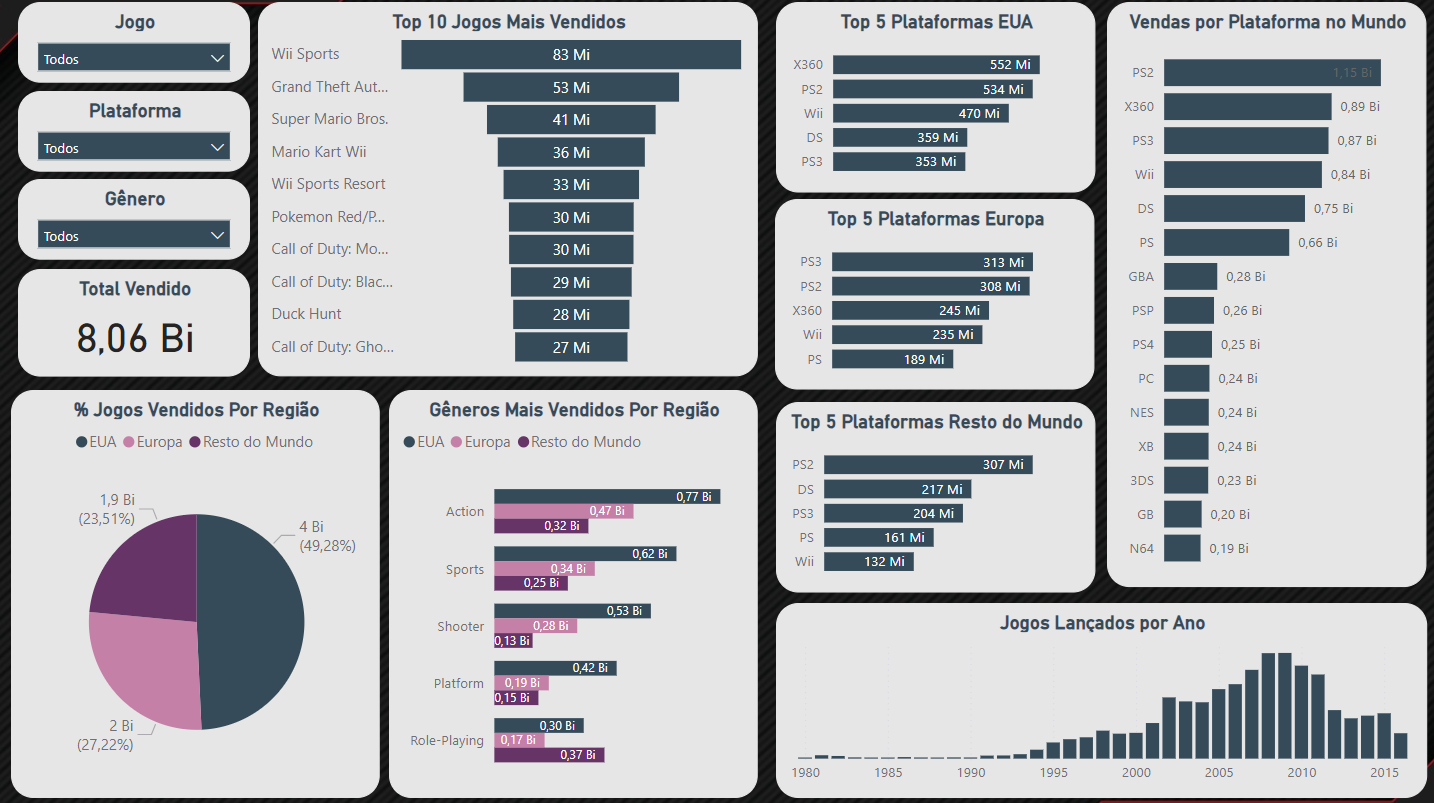

What the dashboard file says about the page in this screenshot:
{"tool":"powerbi","page":{"name":"Página 1","canvas":[1280,720],"ordinal":0},"visuals":[{"type":"columnChart","fields":{"Y":["Medidas.Qtd Jogos"],"Category":["Calendário.Date.Variation.Hierarquia de datas.Ano"]},"box":[691.9,539.1,581.3,173.9],"z":0},{"type":"clusteredBarChart","title":"Gêneros Mais Vendidos Por Região","fields":{"Category":["vgsales.Genero"],"Y":["Sum(vgsales.Vendas EUA)","Sum(vgsales.Vendas Europa)","Sum(vgsales.Vendas Resto do Mundo)"]},"box":[346.8,348.6,329.3,364.4],"z":1000},{"type":"clusteredBarChart","title":"Top 5 Plataformas Resto do Mundo","fields":{"Category":["vgsales.Plataforma"],"Y":["Sum(vgsales.Vendas Resto do Mundo)"]},"box":[691.9,359.1,285.4,170],"z":2000},{"type":"funnel","title":"Top 10 Jogos Mais Vendidos","fields":{"Category":["vgsales.Jogo"],"Y":["Sum(vgsales.Vendas Globais)"]},"box":[230,2.6,446,333.7],"z":3000},{"type":"barChart","title":"Vendas por Plataforma no Mundo","fields":{"Category":["vgsales.Plataforma"],"Y":["Sum(vgsales.Vendas Globais)"]},"box":[987.8,2.6,285.4,521.6],"z":4000},{"type":"pieChart","title":"% Jogos Vendidos Por Região","fields":{"Y":["Sum(vgsales.Vendas EUA)","Sum(vgsales.Vendas Europa)","Sum(vgsales.Vendas Resto do Mundo)"]},"box":[9.7,348.6,329.3,364.4],"z":5000},{"type":"clusteredBarChart","title":"Top 5 Plataformas  Europa","fields":{"Category":["vgsales.Plataforma"],"Y":["Sum(vgsales.Vendas Europa)"]},"box":[691,178.2,285.4,170.3],"z":6000},{"type":"clusteredBarChart","title":"Top 5 Plataformas EUA","fields":{"Category":["vgsales.Plataforma"],"Y":["Sum(vgsales.Vendas EUA)"]},"box":[691.9,2.6,285,170],"z":7000},{"type":"slicer","title":"Jogo","fields":{"Values":["vgsales.Jogo"]},"box":[15.8,2.6,207.2,72],"z":8000},{"type":"card","title":"Total Vendido","fields":{"Values":["Medidas.Total Vendido"]},"box":[15.8,240.6,207.2,95.7],"z":8001},{"type":"slicer","title":"Plataforma","fields":{"Values":["vgsales.Plataforma"]},"box":[15.8,81.7,207.2,72],"z":8002},{"type":"slicer","title":"Gênero","fields":{"Values":["vgsales.Genero"]},"box":[15.8,160.7,207.2,72],"z":8003}]}

Visuals, with their boxes in screenshot pixels (x1, y1, x2, y2), scaled from the page's 1280x720 canvas onto the 1434x803 screenshot:
columnChart - Medidas.Qtd Jogos x Calendário.Date.Variation.Hierarquia de datas.Ano: BBox(775, 601, 1426, 795)
"Gêneros Mais Vendidos Por Região" clusteredBarChart: BBox(389, 389, 757, 795)
"Top 5 Plataformas Resto do Mundo" clusteredBarChart: BBox(775, 400, 1095, 590)
"Top 10 Jogos Mais Vendidos" funnel: BBox(258, 3, 757, 375)
"Vendas por Plataforma no Mundo" barChart: BBox(1107, 3, 1426, 585)
"% Jogos Vendidos Por Região" pieChart: BBox(11, 389, 380, 795)
"Top 5 Plataformas  Europa" clusteredBarChart: BBox(774, 199, 1094, 389)
"Top 5 Plataformas EUA" clusteredBarChart: BBox(775, 3, 1094, 192)
"Jogo" slicer: BBox(18, 3, 250, 83)
"Total Vendido" card: BBox(18, 268, 250, 375)
"Plataforma" slicer: BBox(18, 91, 250, 171)
"Gênero" slicer: BBox(18, 179, 250, 260)
